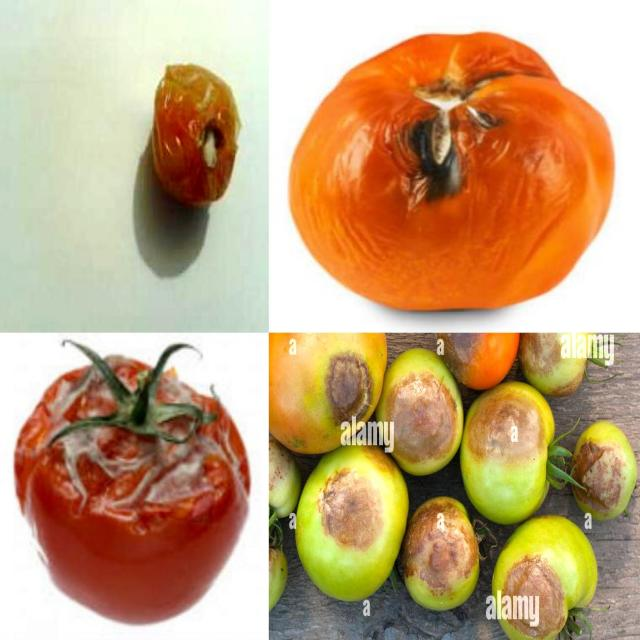Rotten_Tomato: (284, 25, 618, 316), (10, 349, 254, 629), (296, 446, 408, 604), (458, 382, 561, 524), (269, 333, 386, 451), (149, 61, 242, 209), (493, 511, 598, 640), (378, 346, 463, 476), (406, 500, 486, 616), (269, 424, 322, 576), (567, 419, 640, 527), (519, 333, 607, 399), (432, 333, 522, 394), (269, 520, 303, 624), (269, 429, 305, 526), (269, 355, 305, 437)
